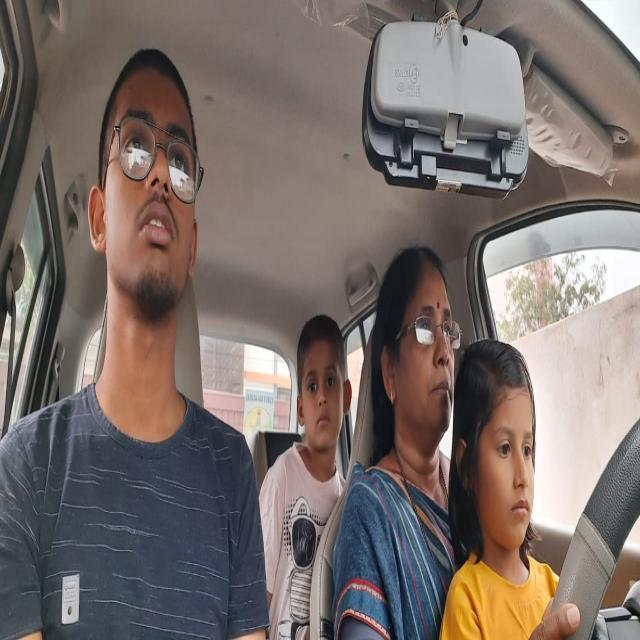child: (467, 355, 539, 555)
person: (94, 49, 202, 308), (379, 258, 457, 428), (296, 334, 352, 454)
